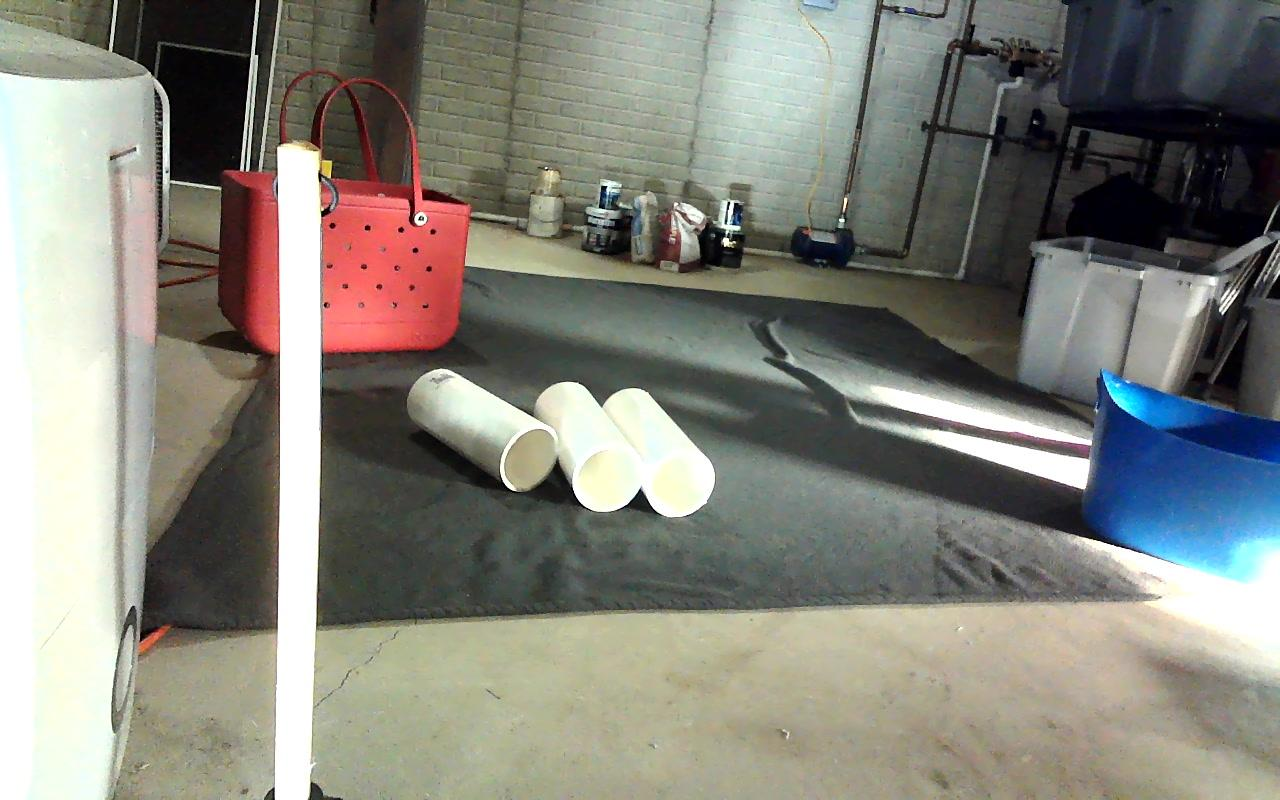coral: (406, 368, 555, 491), (608, 386, 714, 515), (539, 383, 640, 511)
